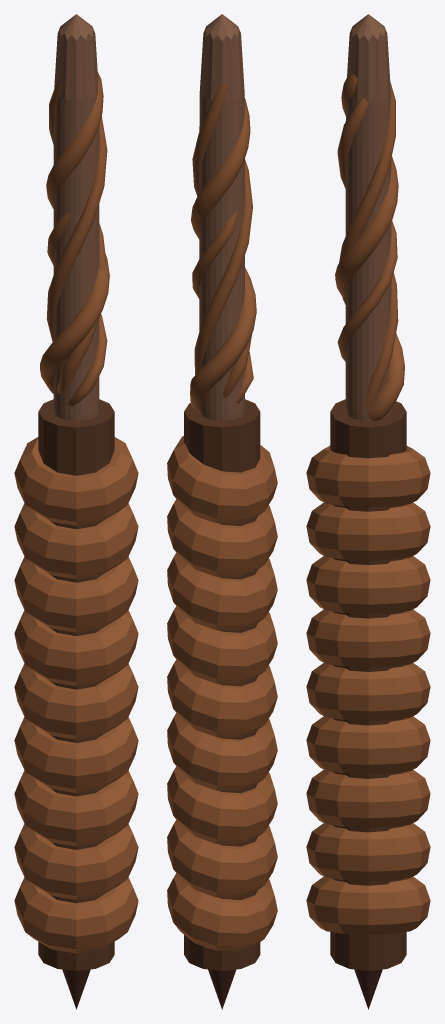
Rendered from Wand 472.glb.
3 renders of one model, left to right at view 1: azimuth 90°, elevation 25°; view 2: azimuth 150°, elevation 25°; view 3: azimuth 270°, elevation 25°, orthographic.
Visible parts, largest first — view 1: GeneratedWand; view 2: GeneratedWand; view 3: GeneratedWand.
Boxes of the visible parts, <box> form: GeneratedWand: <box>14,14,138,1009</box>; GeneratedWand: <box>167,14,277,1009</box>; GeneratedWand: <box>306,14,430,1009</box>.
Bounding box in the file's own units: 0.0497 × 0.5143 × 0.0581.
